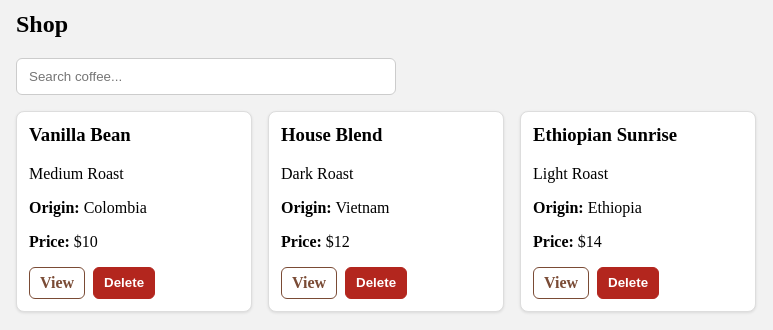
Test: Shop page › removes a product after clicking Delete
Check: the heading "Vanilla Bean" is shown, box [29,124,131,145]
Click the Delete button on the first product
Click the button "Delete" below "10" at coordinates (124, 282), box [93,266,155,298]
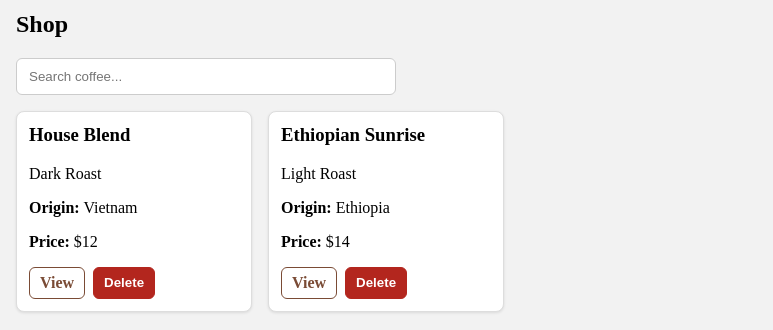
Check: the heading "Vanilla Bean" is gone
